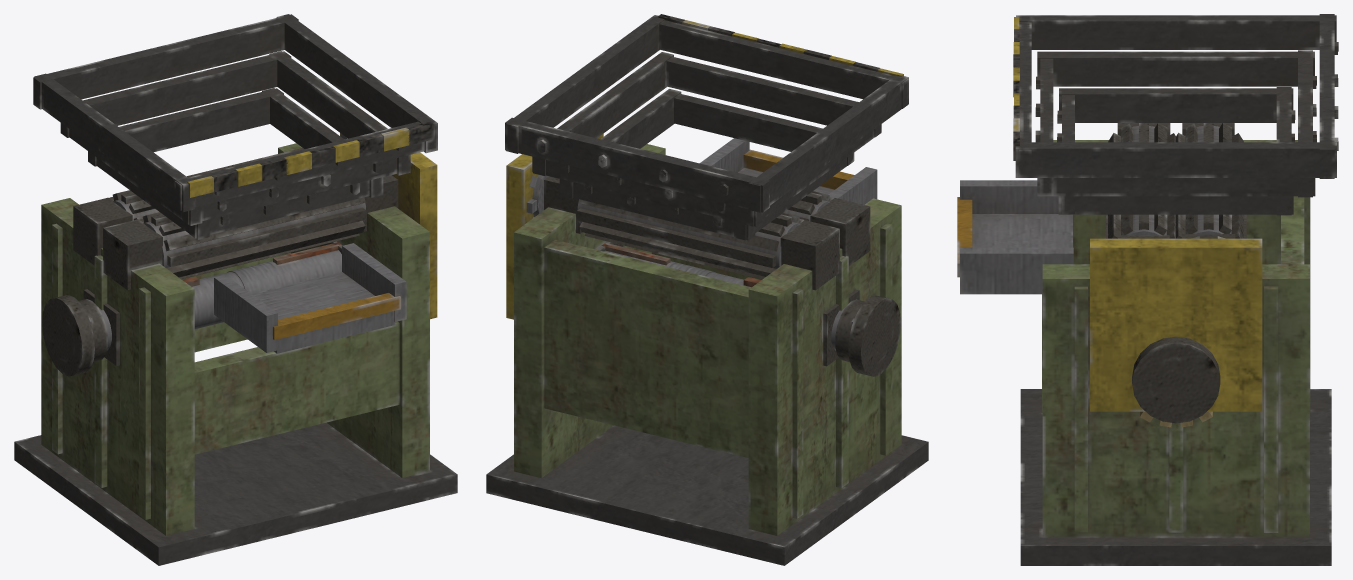
Rendered from feCrusher_HD.fbx.
3 views of the same model, side by side, from view 1: azimuth 30°, elevation 25°; view 2: azimuth 150°, elevation 25°; view 3: azimuth 270°, elevation 25° (orthographic). The views are drawn at different scales.
Visible parts, largest first — view 1: feCrusher_Base, FeSpin_DriveShaft, FeSpin_x2_Rev_RollB, FeSpin_x2_RollA; view 2: feCrusher_Base, FeSpin_x2_RollA, FeSpin_DriveShaft, FeSpin_x2_Rev_RollB; view 3: feCrusher_Base, FeSpin_DriveShaft, FeSpin_x2_Rev_RollB, FeSpin_x2_RollA.
Boxes of the visible parts, x1,y1,x2,y2 form: feCrusher_Base: (14,14,457,565); FeSpin_DriveShaft: (42,242,341,376); FeSpin_x2_Rev_RollB: (139,197,366,279); FeSpin_x2_RollA: (109,134,347,220); feCrusher_Base: (486,14,928,565); FeSpin_x2_RollA: (526,175,804,279); FeSpin_DriveShaft: (601,242,900,376); FeSpin_x2_Rev_RollB: (783,191,833,221); feCrusher_Base: (957,14,1338,565); FeSpin_DriveShaft: (1132,336,1220,427); FeSpin_x2_Rev_RollB: (1106,123,1175,238); FeSpin_x2_RollA: (1176,123,1246,238).
Bounding box in the file's own units: 1 × 1.04 × 0.8838.
1 material, 1 textured.
